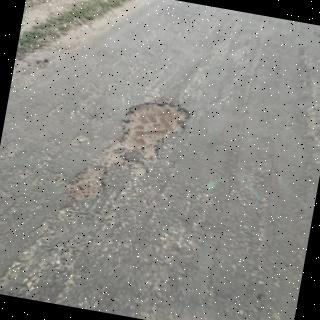pothole: (69, 102, 191, 203)
